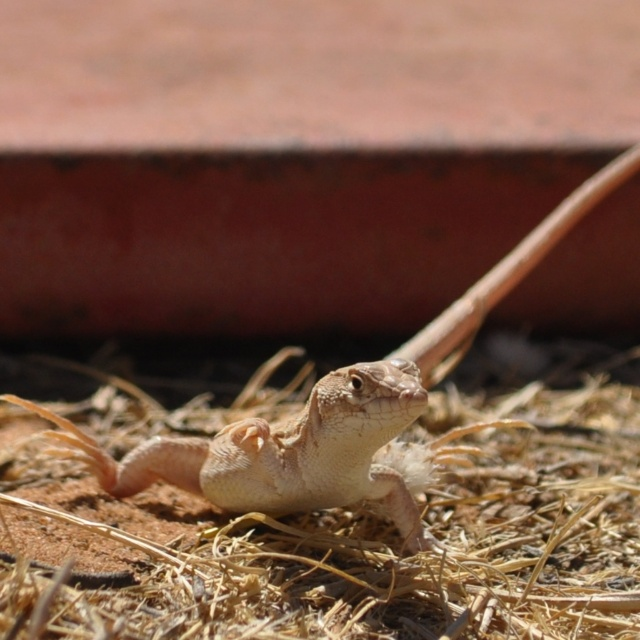Lizard: (33, 326, 484, 545)
